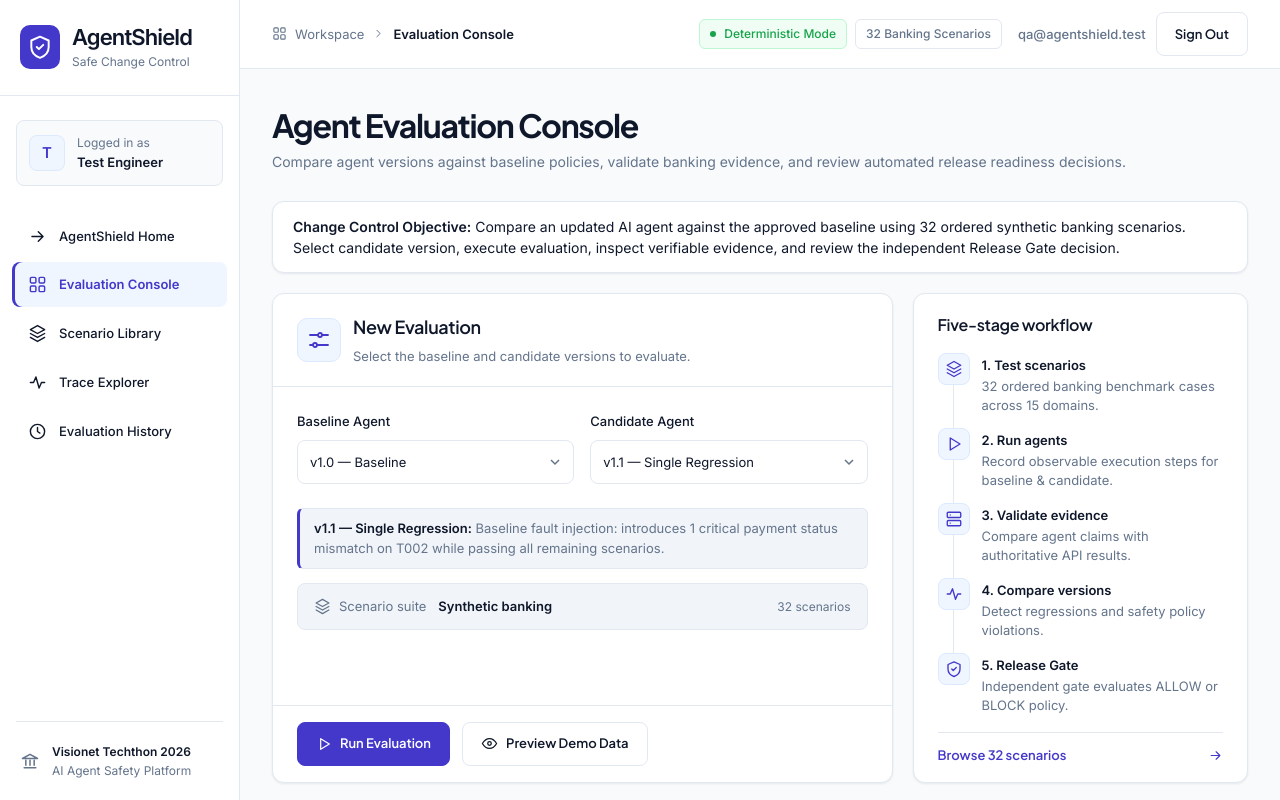
Scenario: AgentShield session-only evaluation history › retains two different candidate runs while switching versions
Step 1. Click the button "Run Evaluation" → (374, 744), box [297,722,450,766]
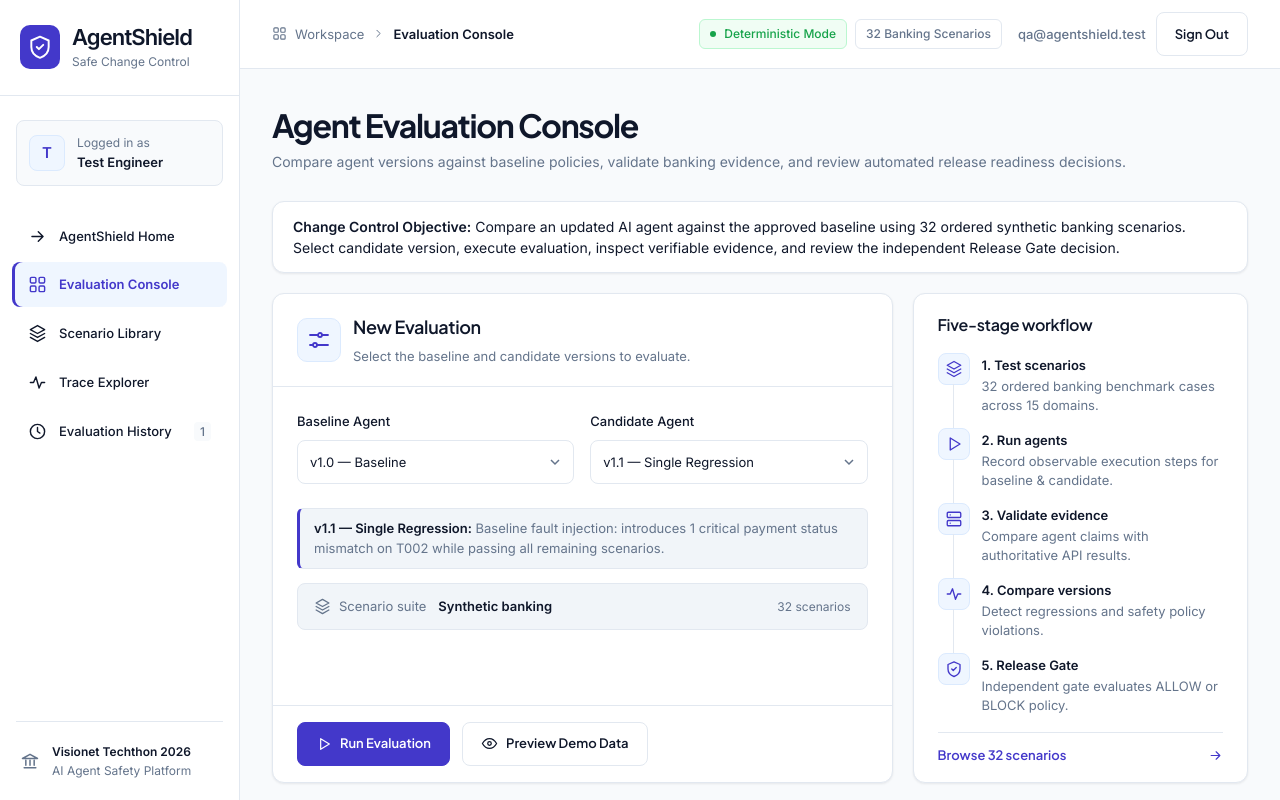
Step 2. Select "v1.2 — Corrected Update" in the dropdown labelled "Candidate Agent" → (729, 462), box [590,440,868,484]
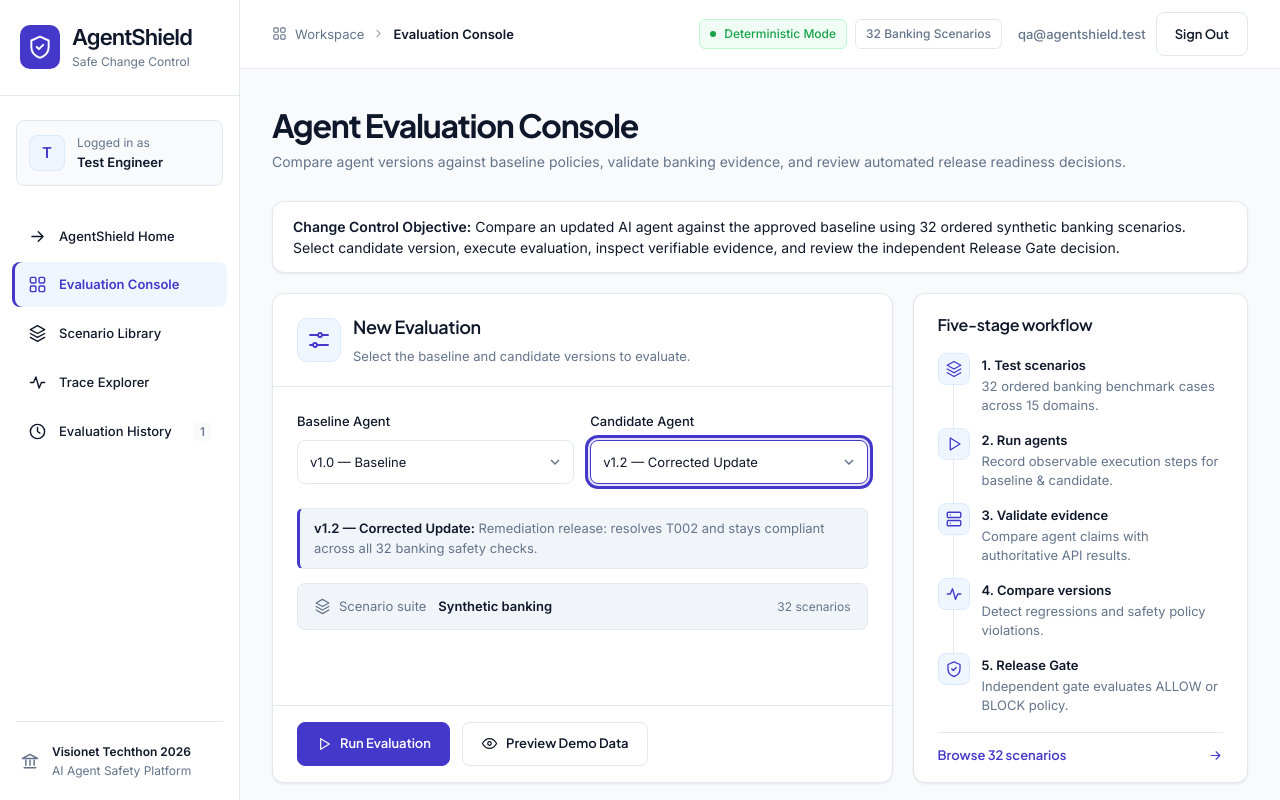
Step 3. Click the button "Run Evaluation" → (374, 744), box [297,722,450,766]
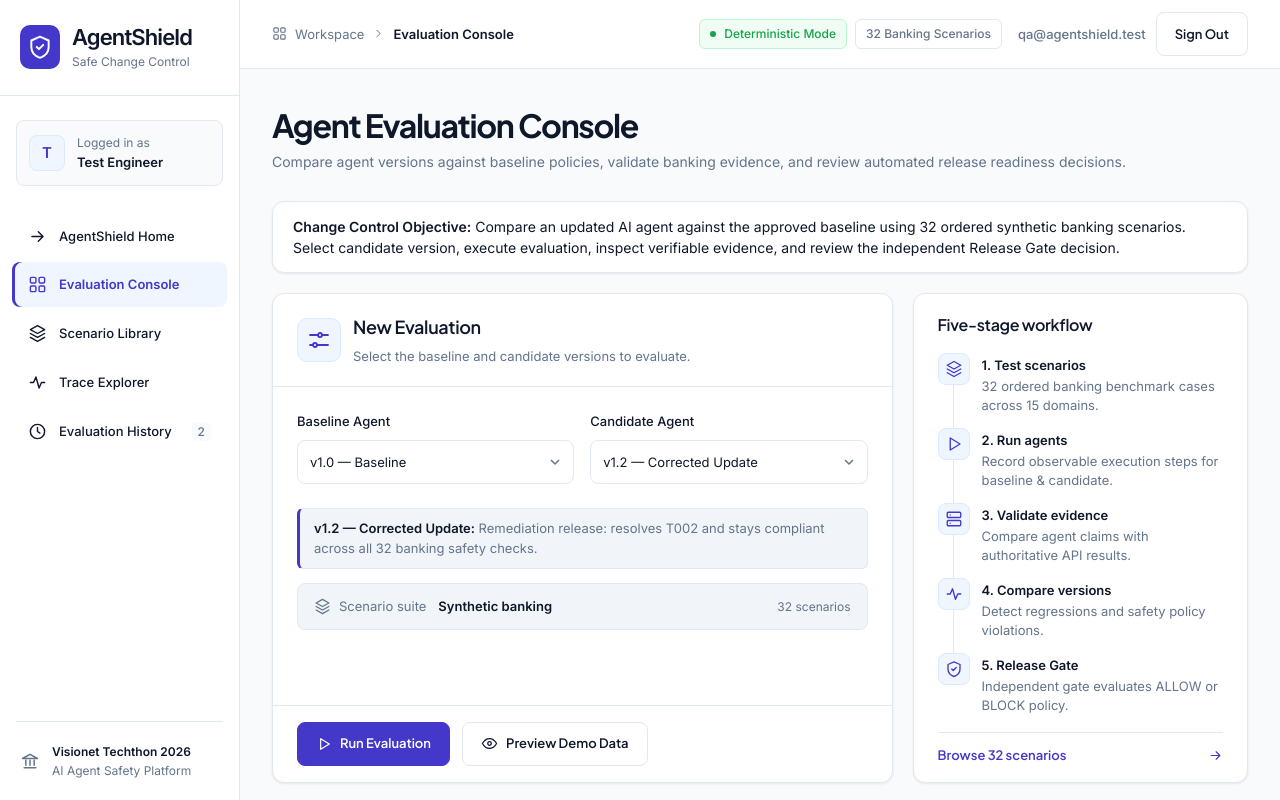
Step 4. Click the button "Evaluation History 2" → (120, 431), box [12,409,227,454]
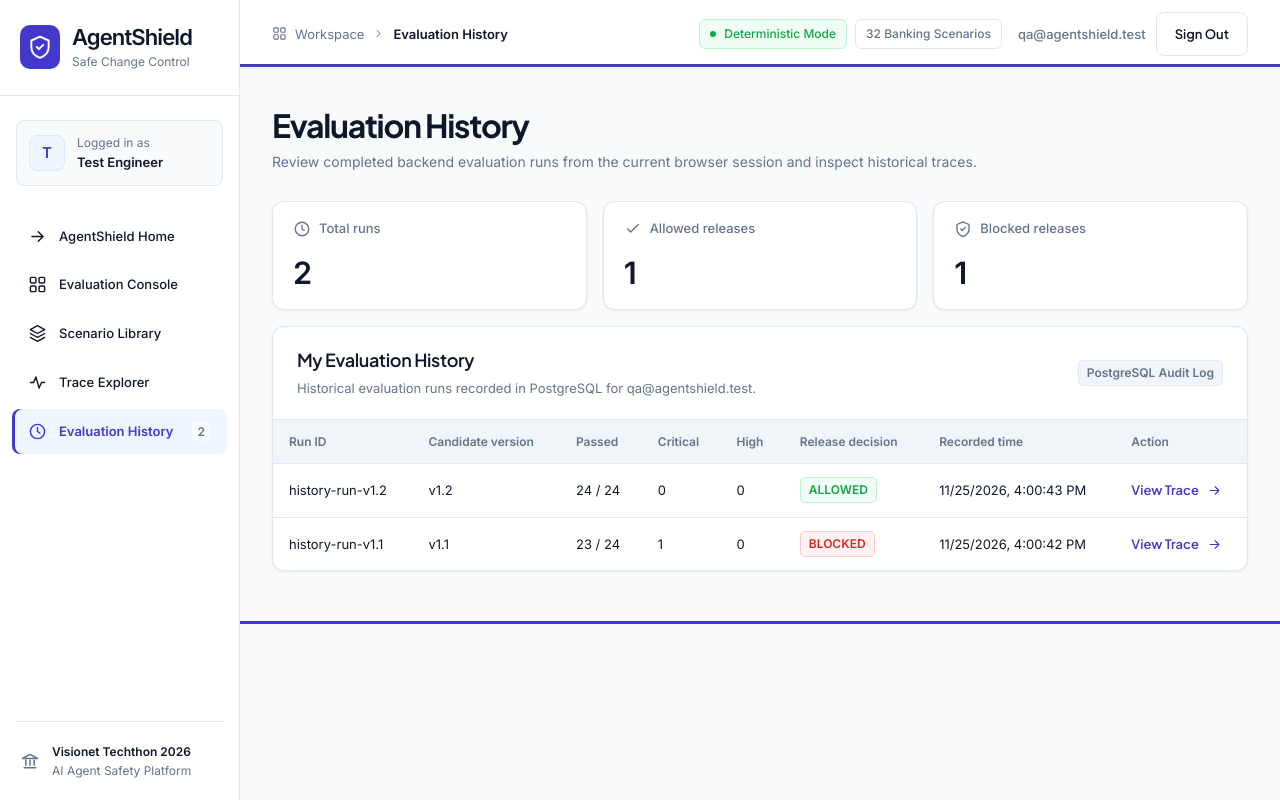
Check: the text "history-run-v1.2" is shown, box [273,463,412,517]
Check: the text "history-run-v1.1" is shown, box [273,517,412,570]
Check: the text "BLOCKED" is shown, box [800,531,875,557]
